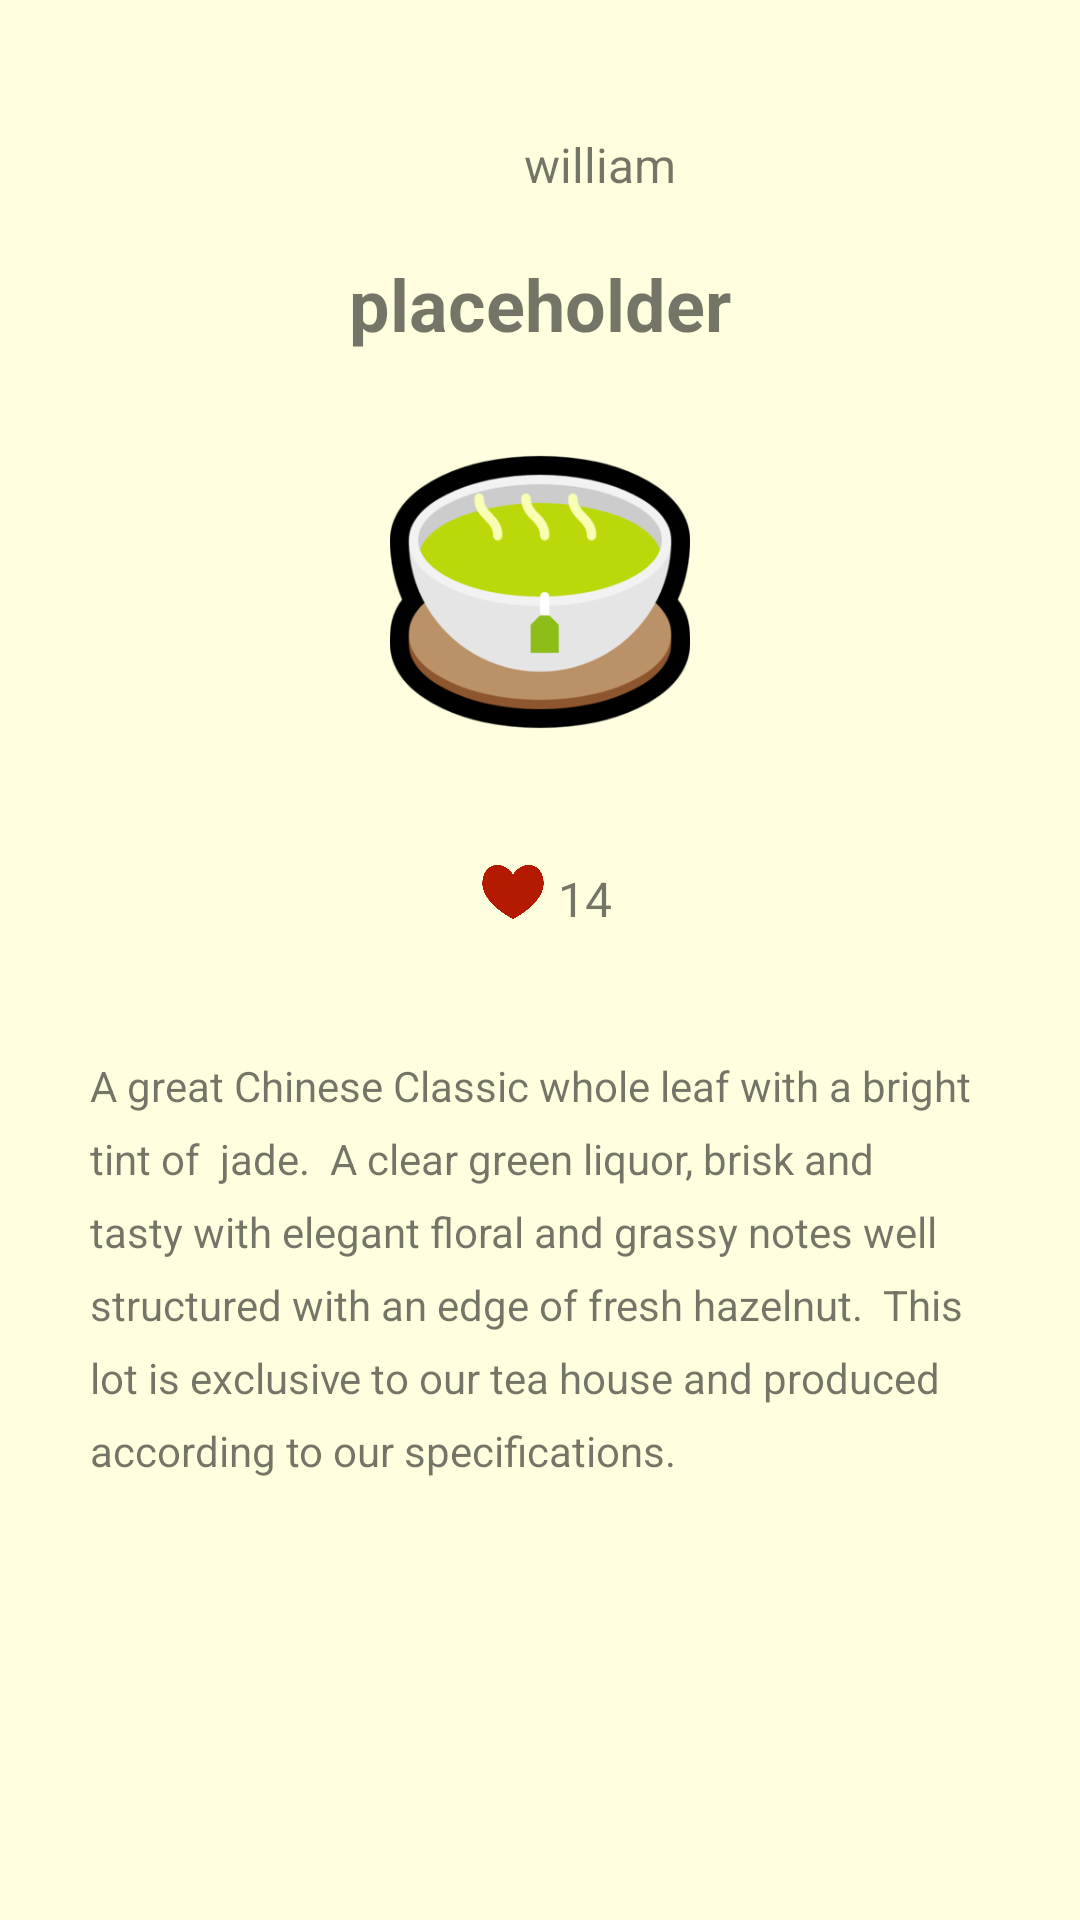

Named icons in this screenshot (1080w x 1920h) and their bounding boxes, (x1, y1, x2, y2):
heart: (482, 865, 544, 919)
teacup: (390, 456, 690, 728)
